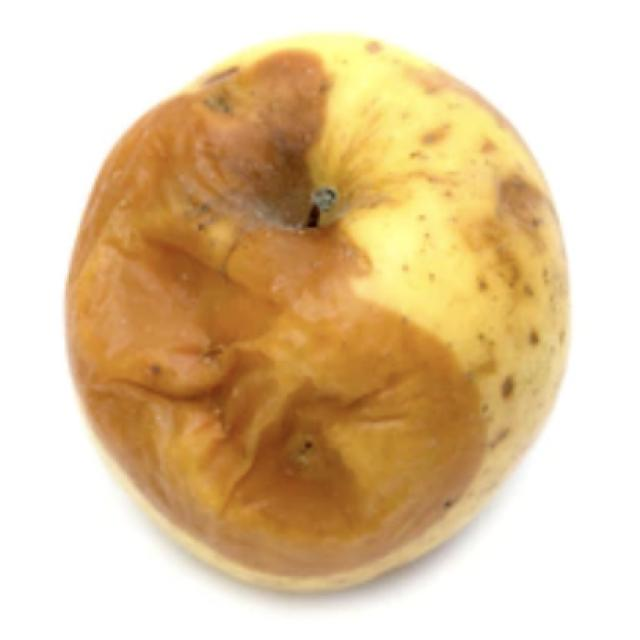rotten_apple: (63, 39, 574, 594)
